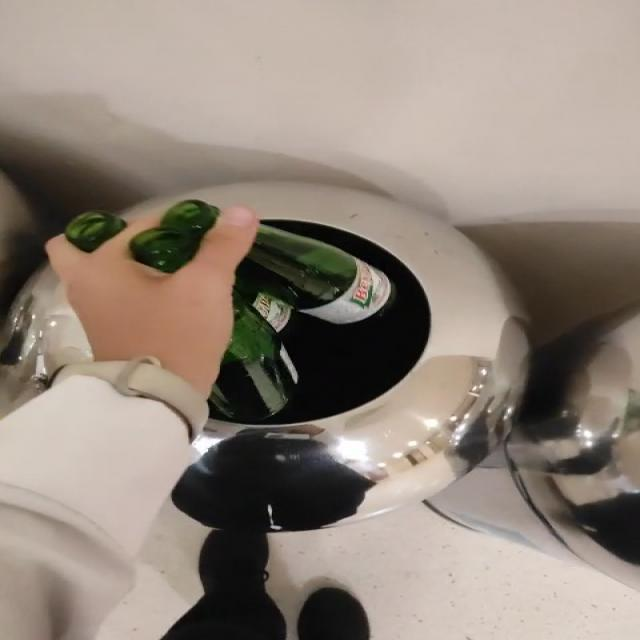bin: (123, 182, 529, 526), (1, 270, 88, 409)
glass: (209, 225, 392, 423), (129, 200, 219, 272), (65, 213, 125, 251)
